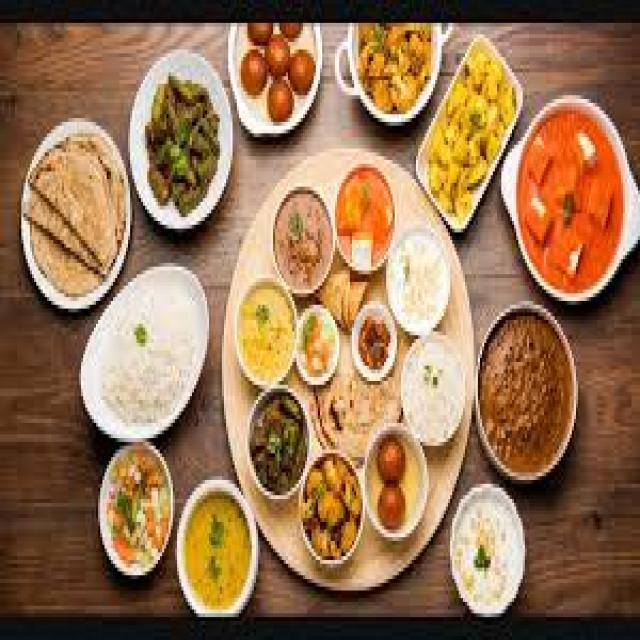dal: (228, 279, 301, 385)
papad: (313, 259, 393, 342)
raita: (381, 229, 457, 338), (397, 338, 471, 448)
rice: (86, 268, 214, 442)
roti: (26, 129, 129, 303)
sweet: (237, 23, 321, 133), (368, 425, 421, 531)
veg: (506, 97, 634, 300), (343, 22, 446, 119)
veg-fry: (130, 59, 233, 231)
